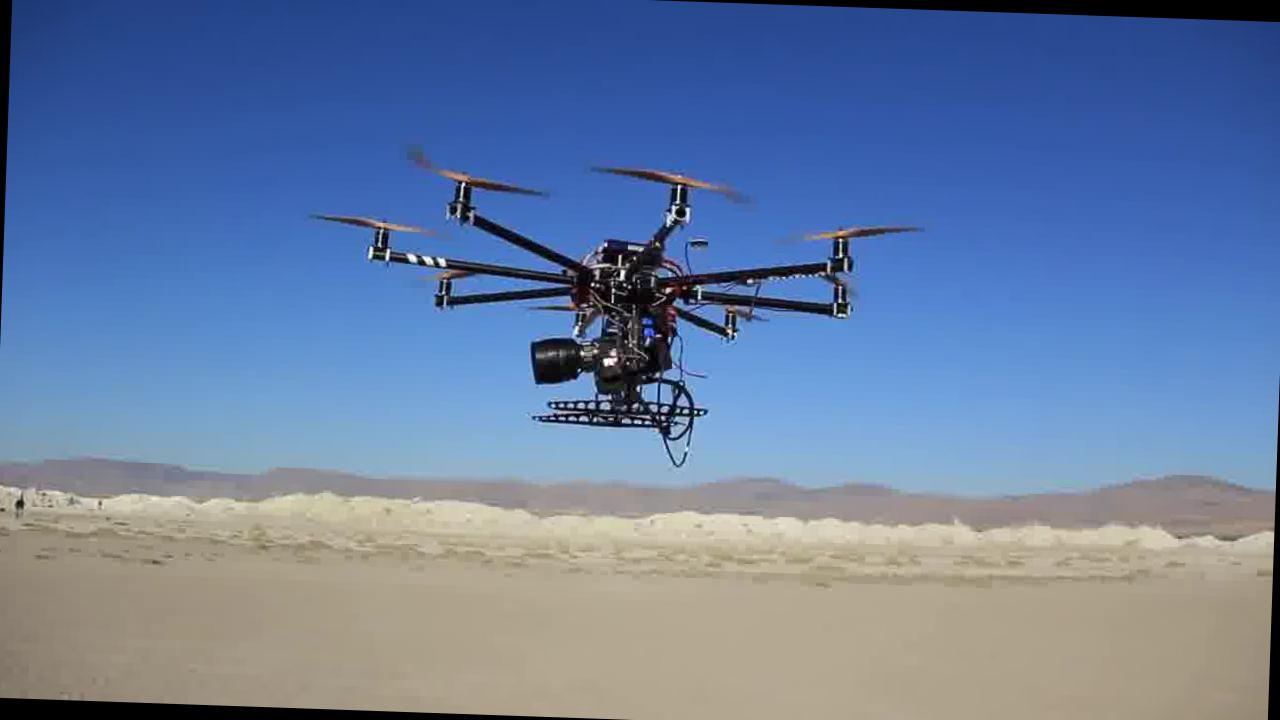drone: (346, 142, 874, 445)
